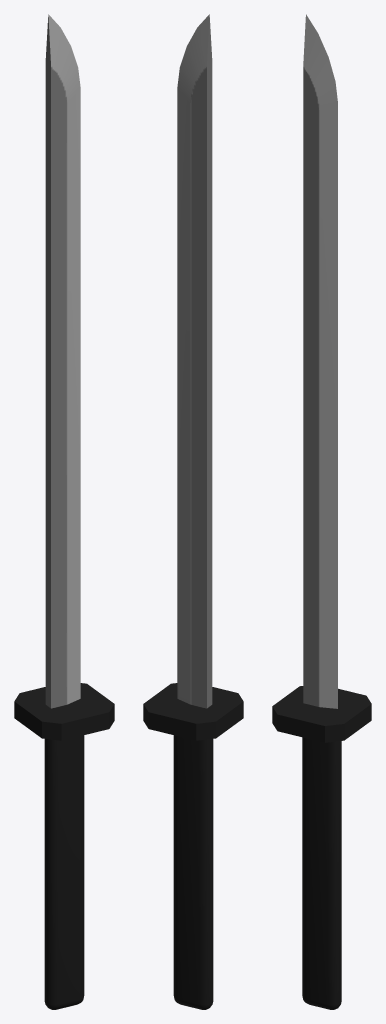
Rendered from weaponNinjaSword.obj.
3 renders of one model, left to right at view 1: azimuth 30°, elevation 25°; view 2: azimuth 150°, elevation 25°; view 3: azimuth 330°, elevation 25°, orthographic.
Parts seen in each view (by area): view 1: weapon_ninjasword; view 2: weapon_ninjasword; view 3: weapon_ninjasword.
Boxes of the visible parts, <box> form: weapon_ninjasword: <box>14,14,114,1009</box>; weapon_ninjasword: <box>143,14,243,1009</box>; weapon_ninjasword: <box>272,14,371,1009</box>.
Bounding box in the file's own units: 0.1173 × 1.54 × 0.1173.
1 material, 1 textured.
